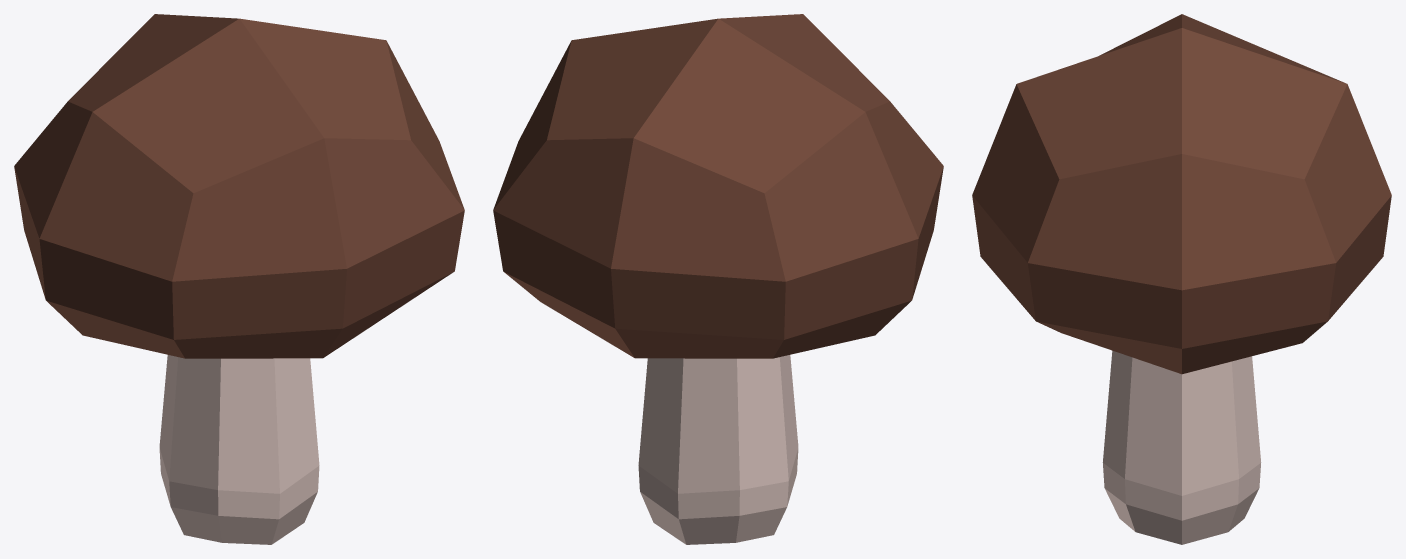
Rendered from MUSH_ROUNDEDMED_BROWN.fbx.
The picture shows the model from 3 angles, left to right: view 1: azimuth 30°, elevation 25°; view 2: azimuth 150°, elevation 25°; view 3: azimuth 270°, elevation 25°; orthographic projection. The views are drawn at different scales.
Parts seen in each view (by area): view 1: pCube20, pCube19; view 2: pCube20, pCube19; view 3: pCube20, pCube19.
Boxes of the visible parts, bbox=[...] form: pCube20: bbox=[14, 14, 464, 358]; pCube19: bbox=[159, 355, 319, 544]; pCube20: bbox=[493, 14, 943, 358]; pCube19: bbox=[638, 355, 798, 544]; pCube20: bbox=[972, 14, 1391, 374]; pCube19: bbox=[1102, 350, 1261, 544].
Bounding box in the file's own units: 14.03 × 17.15 × 13.06.
